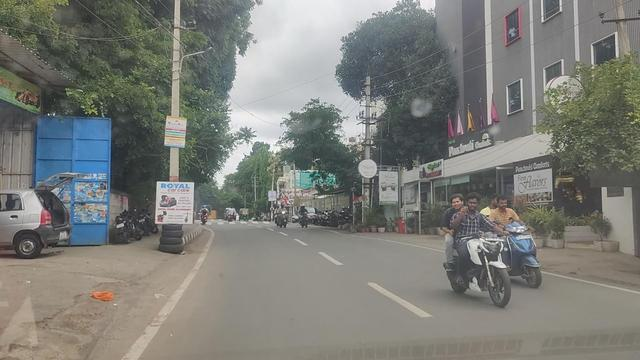LMV: (448, 193, 509, 305), (489, 195, 540, 284)
RoadDamages: (20, 293, 99, 350)
